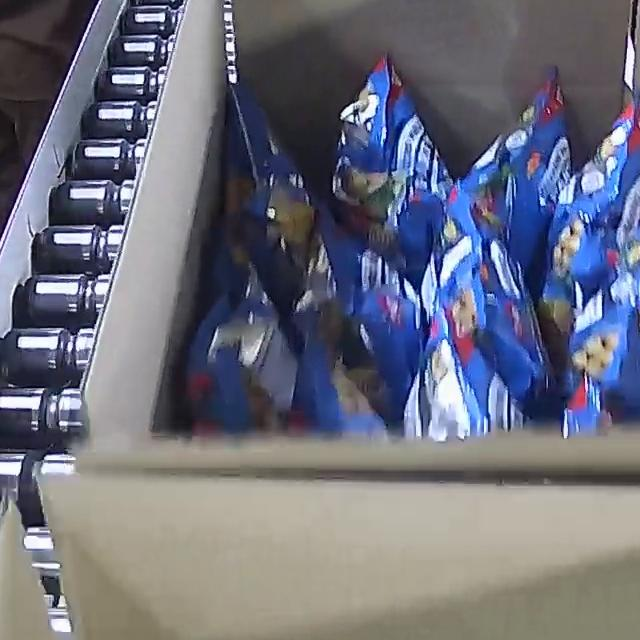paprika: (180, 47, 640, 440)
